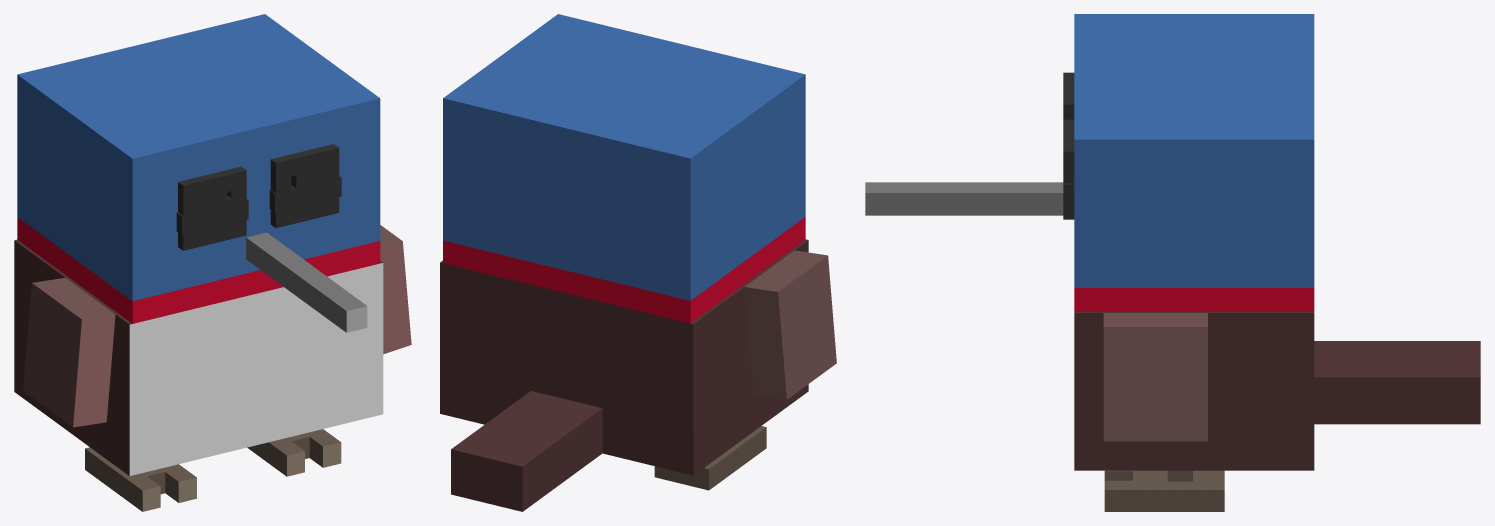
The picture shows the model from 3 angles, left to right: view 1: azimuth 30°, elevation 25°; view 2: azimuth 150°, elevation 25°; view 3: azimuth 270°, elevation 25°; orthographic projection. The views are drawn at different scales.
Visible parts, largest first — view 1: Ch_16_Head, Ch_16, Ch_16_Wing_L, Ch_16_Leg_L, Ch_16_Eye_01, Ch_16_Wing_R, Ch_16_Leg_R, Ch_16_Eye_03_R, Ch_16_Eye_03_L, Ch_16_Eye_02; view 2: Ch_16_Head, Ch_16, Ch_16_Wing_L, Ch_16_Leg_L; view 3: Ch_16_Head, Ch_16, Ch_16_Wing_R, Ch_16_Leg_R, Ch_16_Eye_03_R.
Boxes of the visible parts, x1,y1,x2,y2 form: Ch_16_Head: (17, 14, 380, 332); Ch_16: (14, 239, 383, 476); Ch_16_Wing_L: (23, 277, 115, 427); Ch_16_Leg_L: (85, 447, 196, 511); Ch_16_Eye_01: (195, 158, 328, 241); Ch_16_Wing_R: (380, 225, 411, 354); Ch_16_Leg_R: (247, 429, 341, 476); Ch_16_Eye_03_R: (270, 144, 339, 228); Ch_16_Eye_03_L: (178, 166, 246, 250); Ch_16_Eye_02: (176, 176, 341, 235); Ch_16_Head: (443, 14, 805, 323); Ch_16: (440, 239, 808, 511); Ch_16_Wing_L: (744, 250, 836, 399); Ch_16_Leg_L: (654, 426, 766, 490); Ch_16_Head: (865, 14, 1314, 311); Ch_16: (1074, 311, 1480, 470); Ch_16_Wing_R: (1103, 313, 1207, 441); Ch_16_Leg_R: (1104, 470, 1224, 511); Ch_16_Eye_03_R: (1063, 119, 1074, 219).
Bounding box in the file's own units: 8.93 × 9.32 × 13.52.
